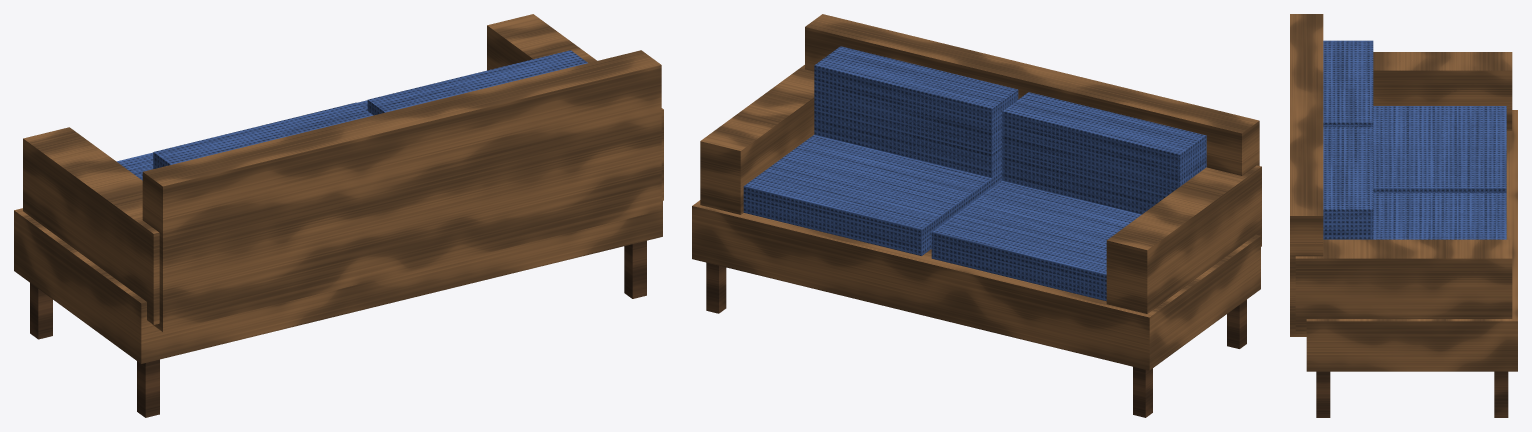
Rendered from sofa.fbx.
3 renders of one model, left to right at view 1: azimuth 30°, elevation 25°; view 2: azimuth 150°, elevation 25°; view 3: azimuth 270°, elevation 25°, orthographic. The views are drawn at different scales.
Visible parts, largest first — view 1: sofa; view 2: sofa; view 3: sofa.
Boxes of the visible parts, <box> form: sofa: <box>14,14,663,417</box>; sofa: <box>692,14,1261,417</box>; sofa: <box>1290,14,1517,417</box>.
Size of the model in its own units: 180 by 80 by 82.
